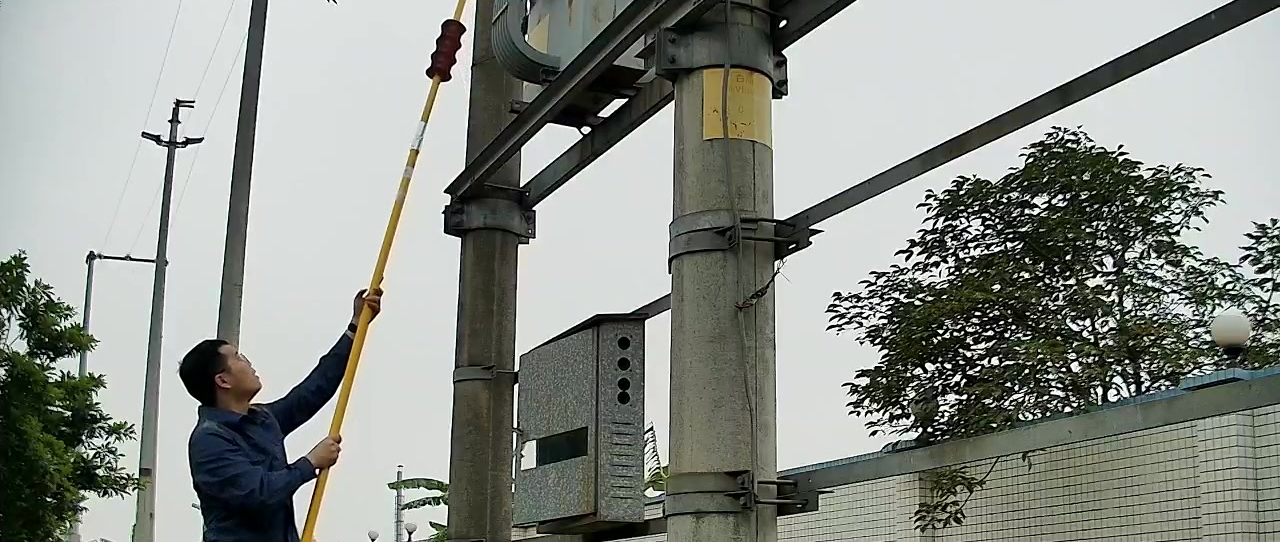未带安全帽的工作人员: (177, 277, 384, 541)
